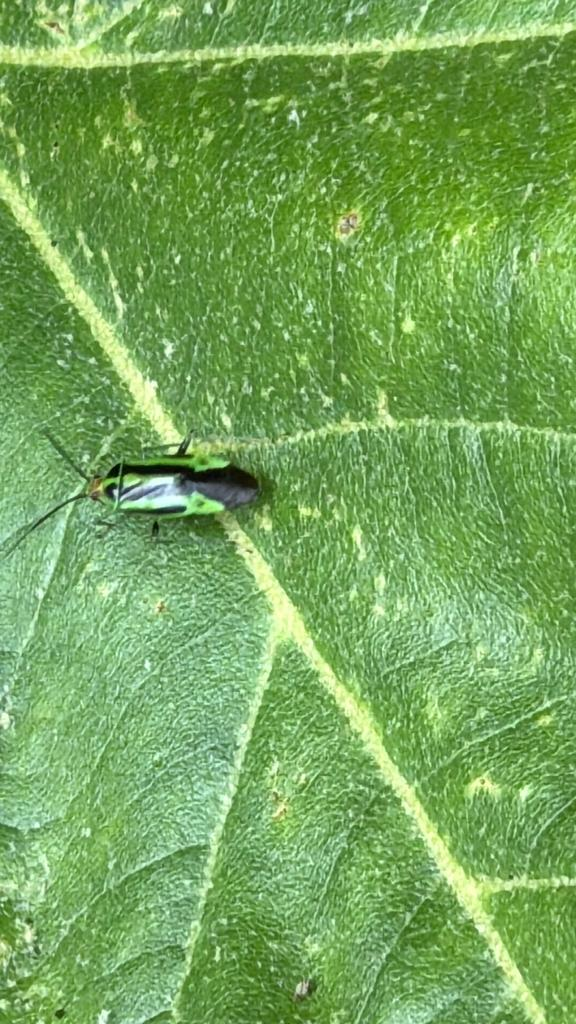plant_bugs: (0, 387, 286, 579)
